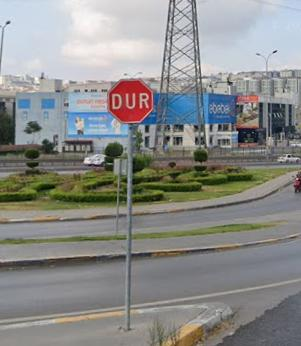stop: (109, 79, 153, 123)
